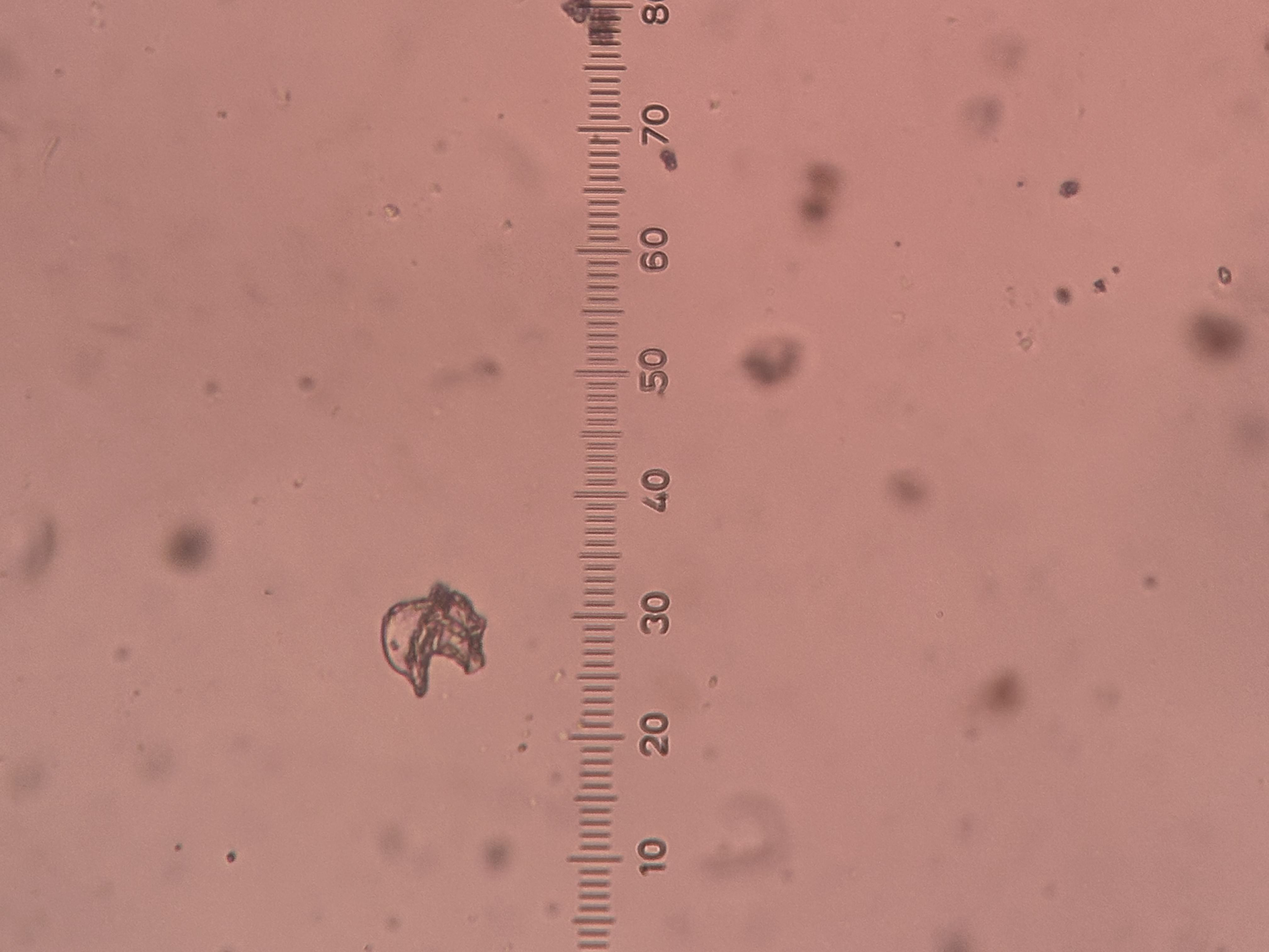microplastic: (372, 573, 499, 695)
